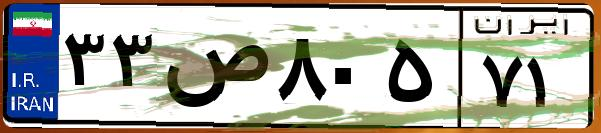0: (330, 28, 385, 110)
1: (525, 38, 570, 115)
3: (57, 26, 110, 100), (110, 28, 158, 98)
5: (385, 28, 445, 110)
7: (475, 38, 525, 113)
8: (270, 28, 330, 110)
ص: (158, 20, 270, 120)
